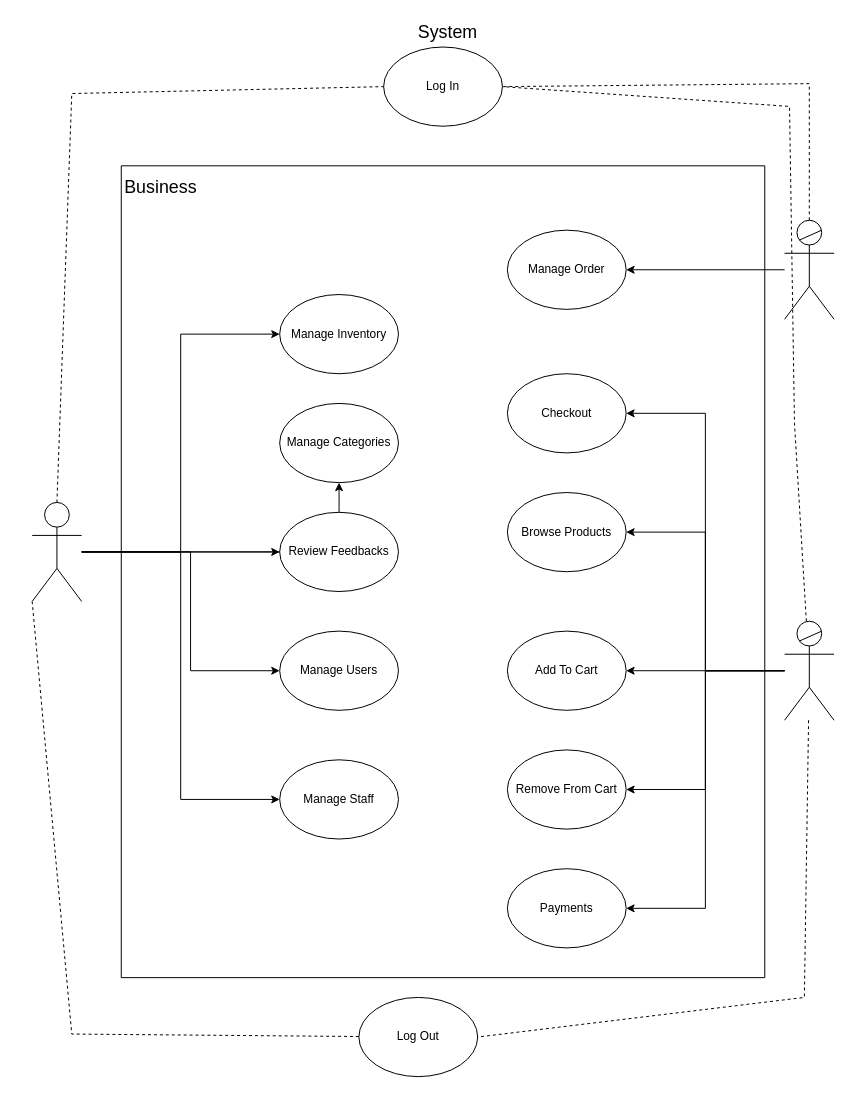
This 852x1094 diagram has some shape labels left out. Each missing label, with the centre of its shape:
Admin (Owner): [56,551]
Customer: [809,670]
Seller: [809,269]
